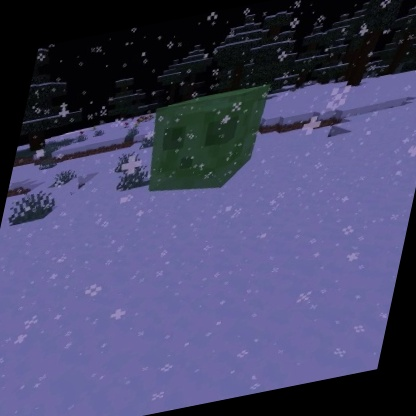slime: (133, 77, 276, 208)
